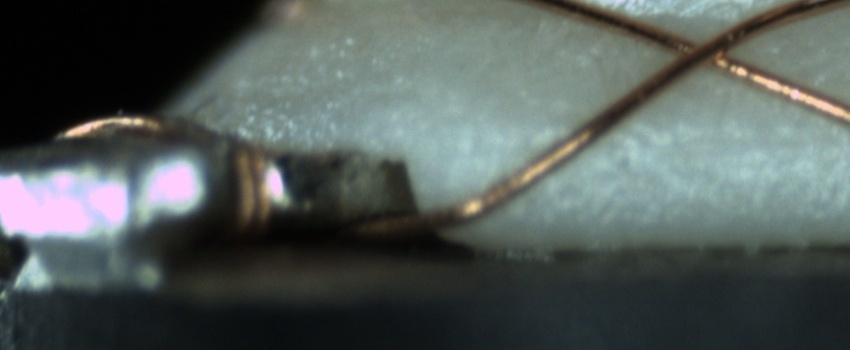CL: (655, 17, 756, 80)
DL: (589, 114, 849, 174)
TE: (54, 113, 277, 233)
